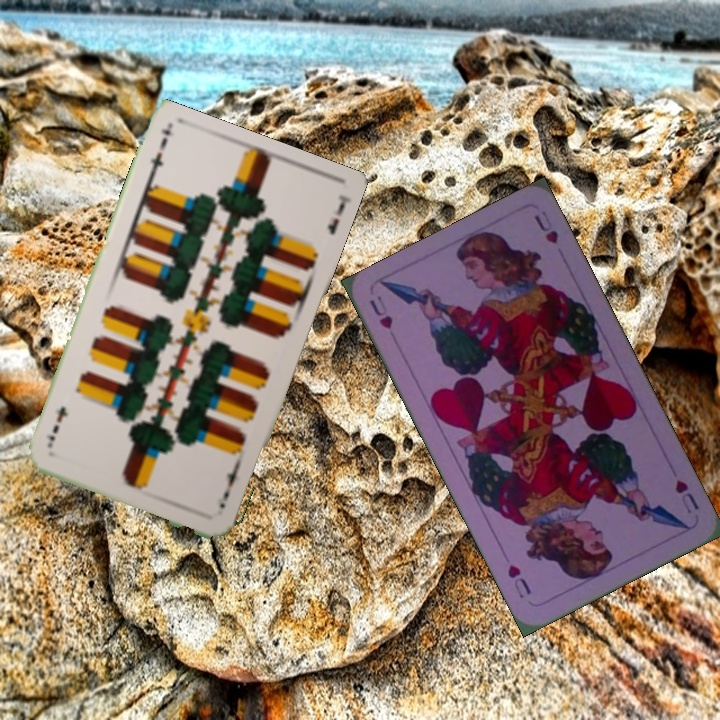E7: (215, 461, 242, 511), (144, 133, 170, 183)
HU: (670, 475, 702, 517), (365, 291, 396, 332)
